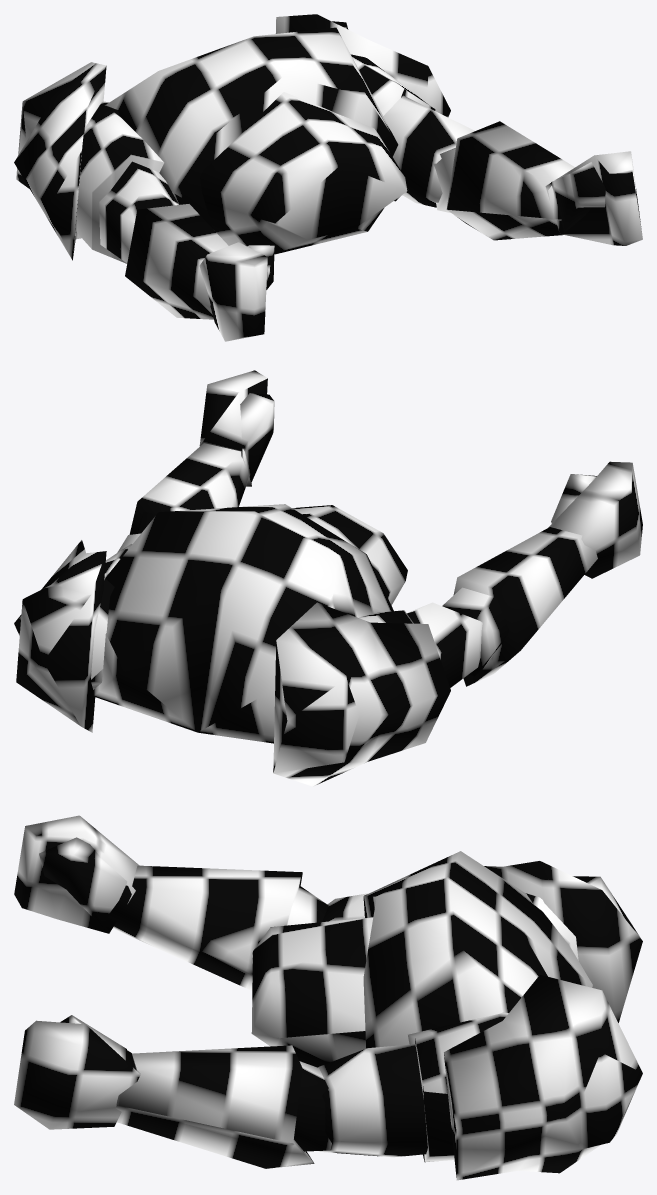
Rendered from initarpl3.dae.
3 views of the same model, one above another, from view 1: azimuth 30°, elevation 25°; view 2: azimuth 150°, elevation 25°; view 3: azimuth 270°, elevation 25° (orthographic). The views are drawn at different scales.
Visible parts, largest first — view 1: armor; view 2: armor; view 3: armor.
Boxes of the visible parts, x1=… form: armor: x1=14, y1=14, x2=642, y2=341; armor: x1=14, y1=370, x2=642, y2=786; armor: x1=14, y1=815, x2=642, y2=1180.
Bounding box in the file's own units: 1.62 × 1.88 × 0.7705.
Materials: 1 (1 with a texture image).
